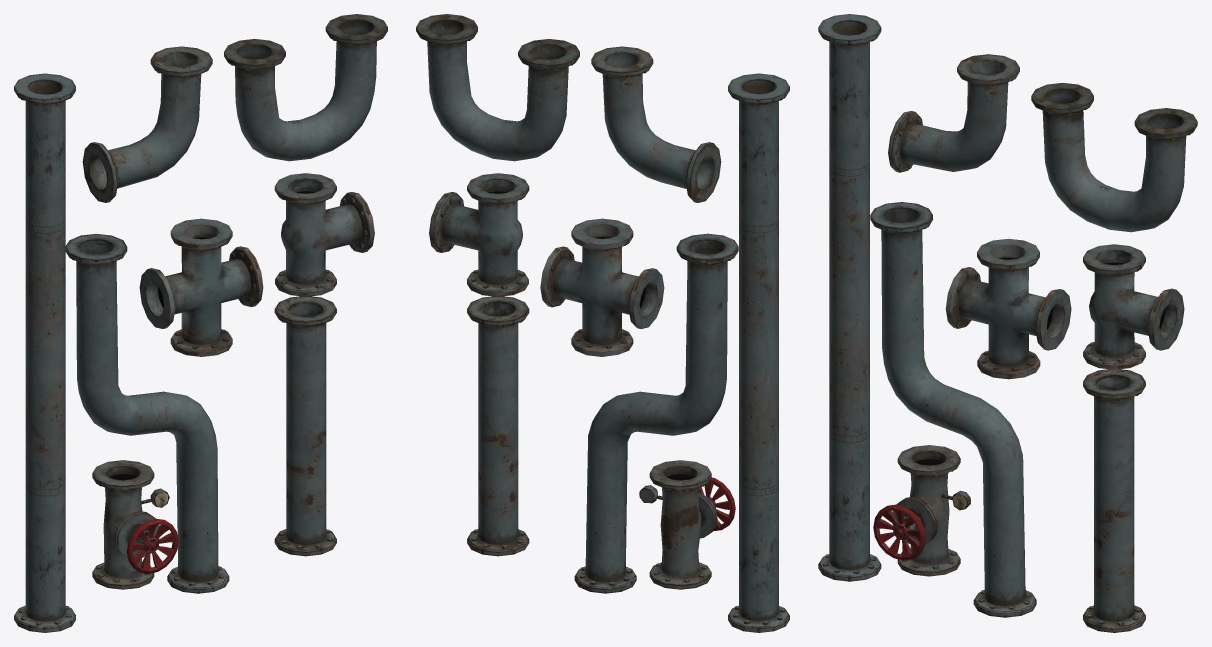
Rendered from pipes.glb.
3 renders of one model, left to right at view 1: azimuth 30°, elevation 25°; view 2: azimuth 150°, elevation 25°; view 3: azimuth 330°, elevation 25°, orthographic.
Parts seen in each view (by area): view 1: modular_industrial_pipes_01_pipe01, modular_industrial_pipes_01_pipe05; view 2: modular_industrial_pipes_01_pipe01, modular_industrial_pipes_01_pipe05; view 3: modular_industrial_pipes_01_pipe01, modular_industrial_pipes_01_pipe05.
Part boxes in pixels (x1=…): modular_industrial_pipes_01_pipe01: x1=14, y1=46, x2=336, y2=632; modular_industrial_pipes_01_pipe05: x1=92, y1=14, x2=387, y2=589; modular_industrial_pipes_01_pipe01: x1=467, y1=46, x2=789, y2=632; modular_industrial_pipes_01_pipe05: x1=416, y1=14, x2=735, y2=589; modular_industrial_pipes_01_pipe01: x1=818, y1=14, x2=1145, y2=632; modular_industrial_pipes_01_pipe05: x1=873, y1=82, x2=1197, y2=576.
Size of the model in its own units: 1.4 by 1.95 by 0.3072.
Materials: 2 (2 with a texture image).
